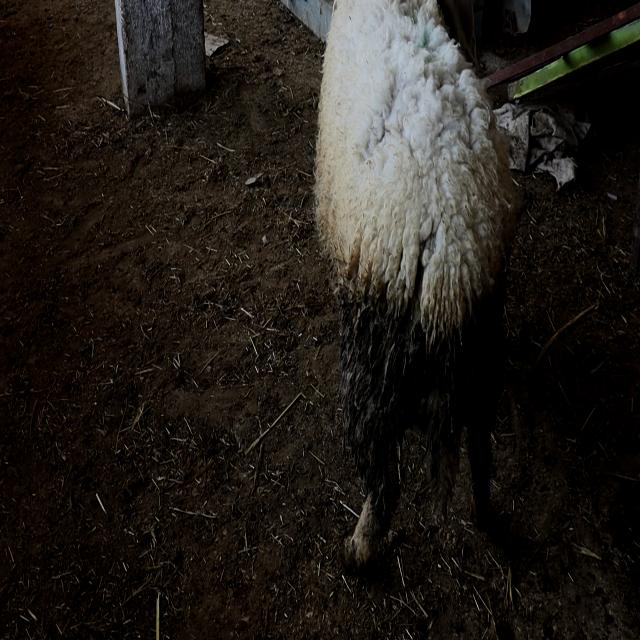Score_4: (314, 0, 521, 571)
